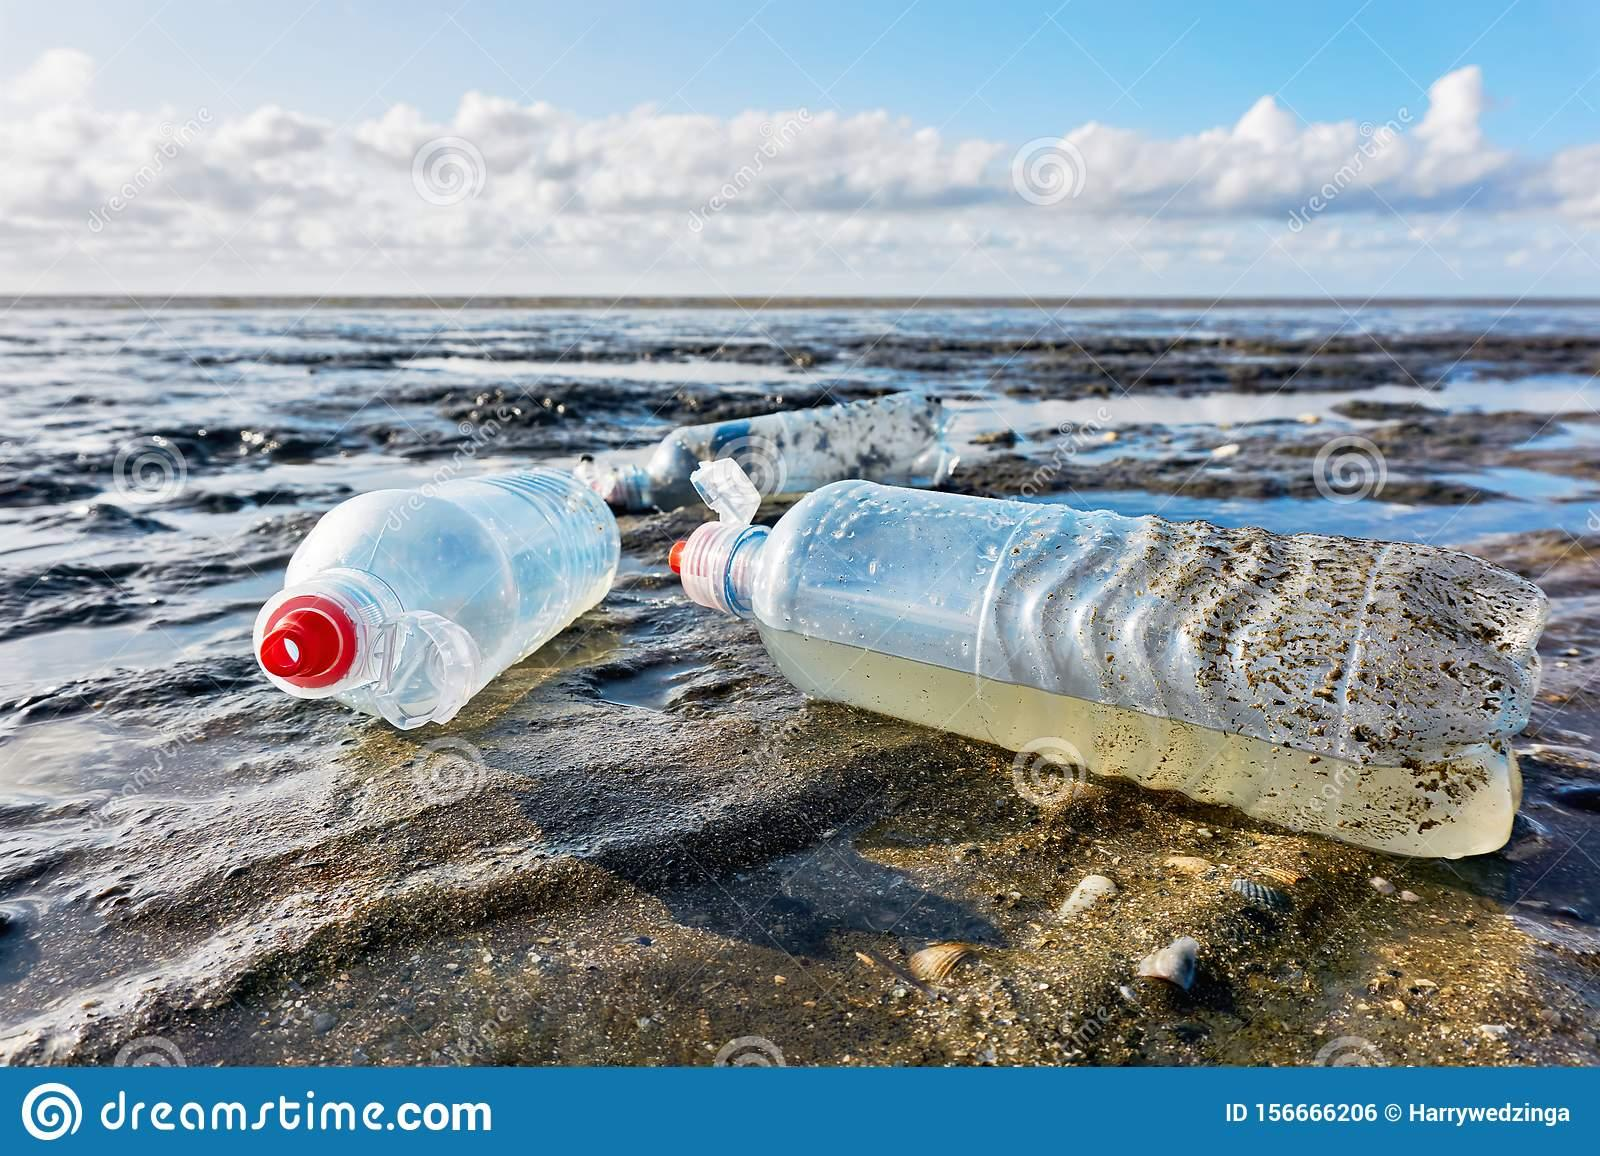bottle: (651, 394, 1559, 892), (73, 530, 154, 628)
